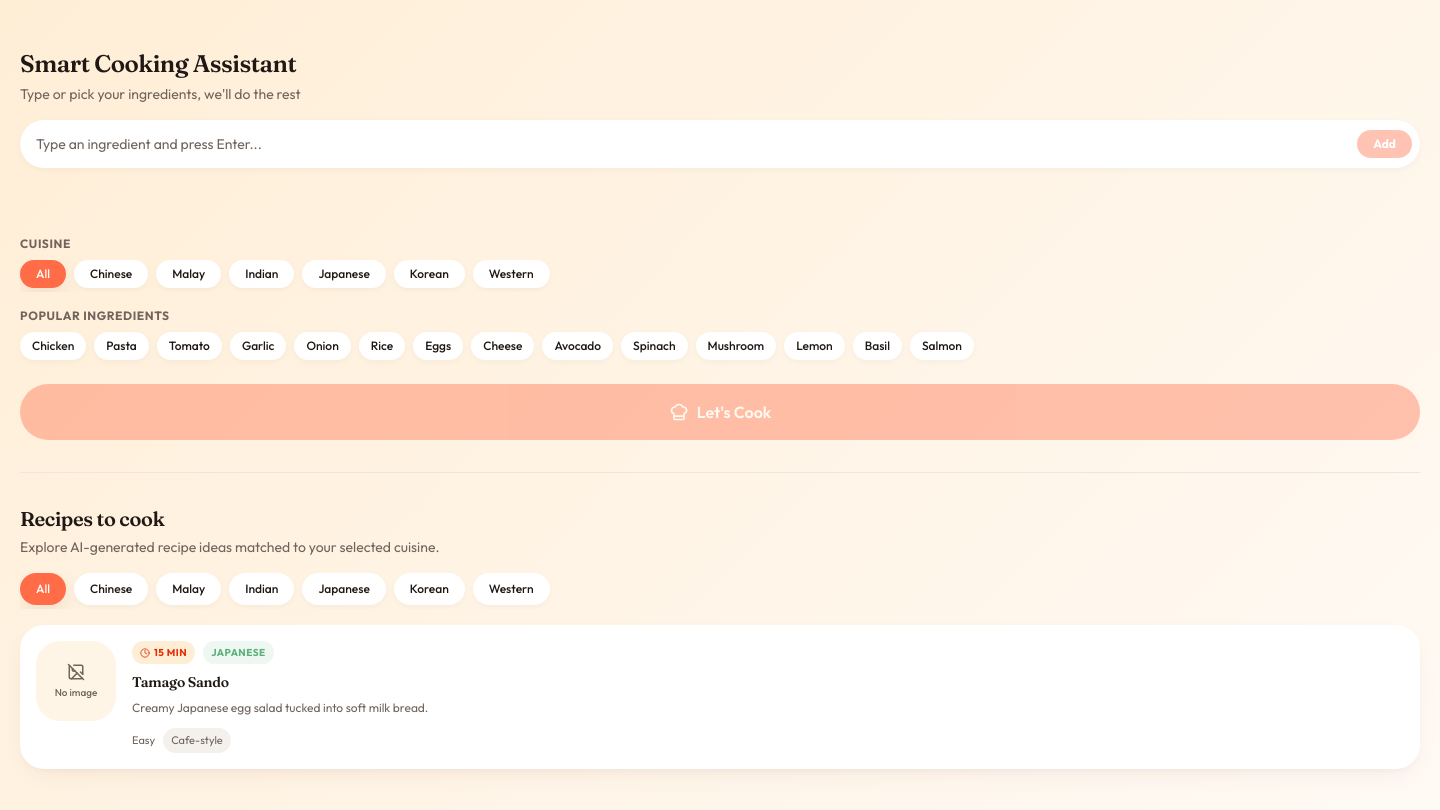
CookPage clear all › regenerates recommendation results when the cuisine filter changes
Check: the heading "Tamago Sando" is shown, box [132,673,229,691]
Click the button "Korean" below "Recipes to cook".
click(429, 589)  # box [394,573,465,605]
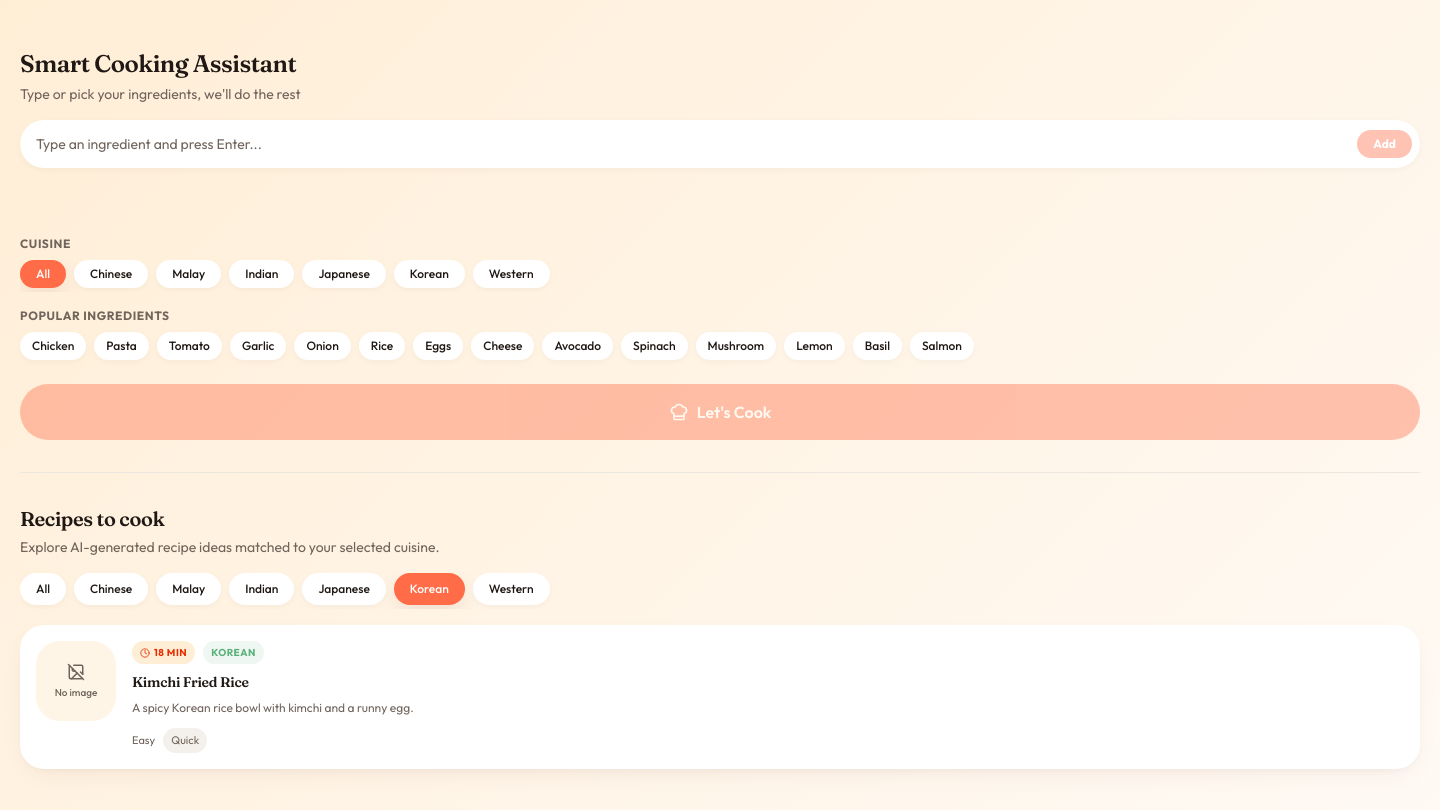
Check: the heading "Kimchi Fried Rice" is shown, box [132,673,249,691]
